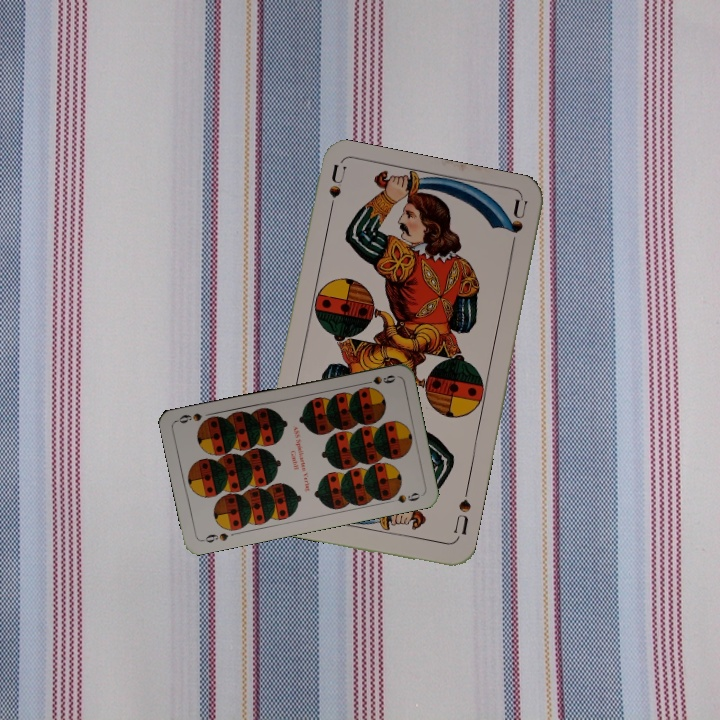S9: (358, 371, 398, 387), (198, 529, 231, 545)
SU: (324, 162, 350, 222), (450, 484, 474, 543)
